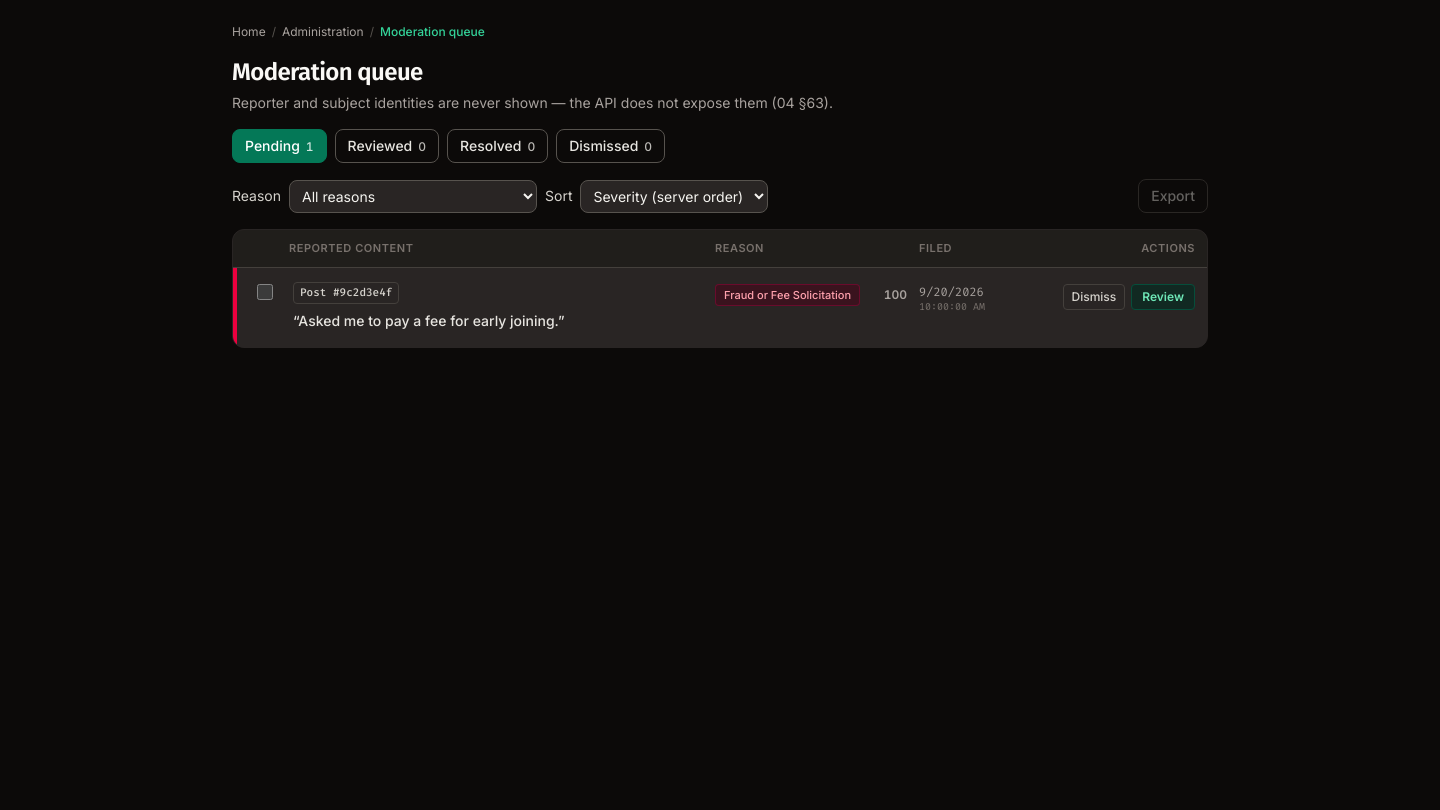
Test: AdminReportsPage (9.5 Task 8) › records a review decision and moves the row's status
Expected: the element with test id "reports-list" is shown, [232, 229, 1208, 348]
Step 1. Click the button "Review" → point(1163, 296), box [1131, 284, 1195, 310]
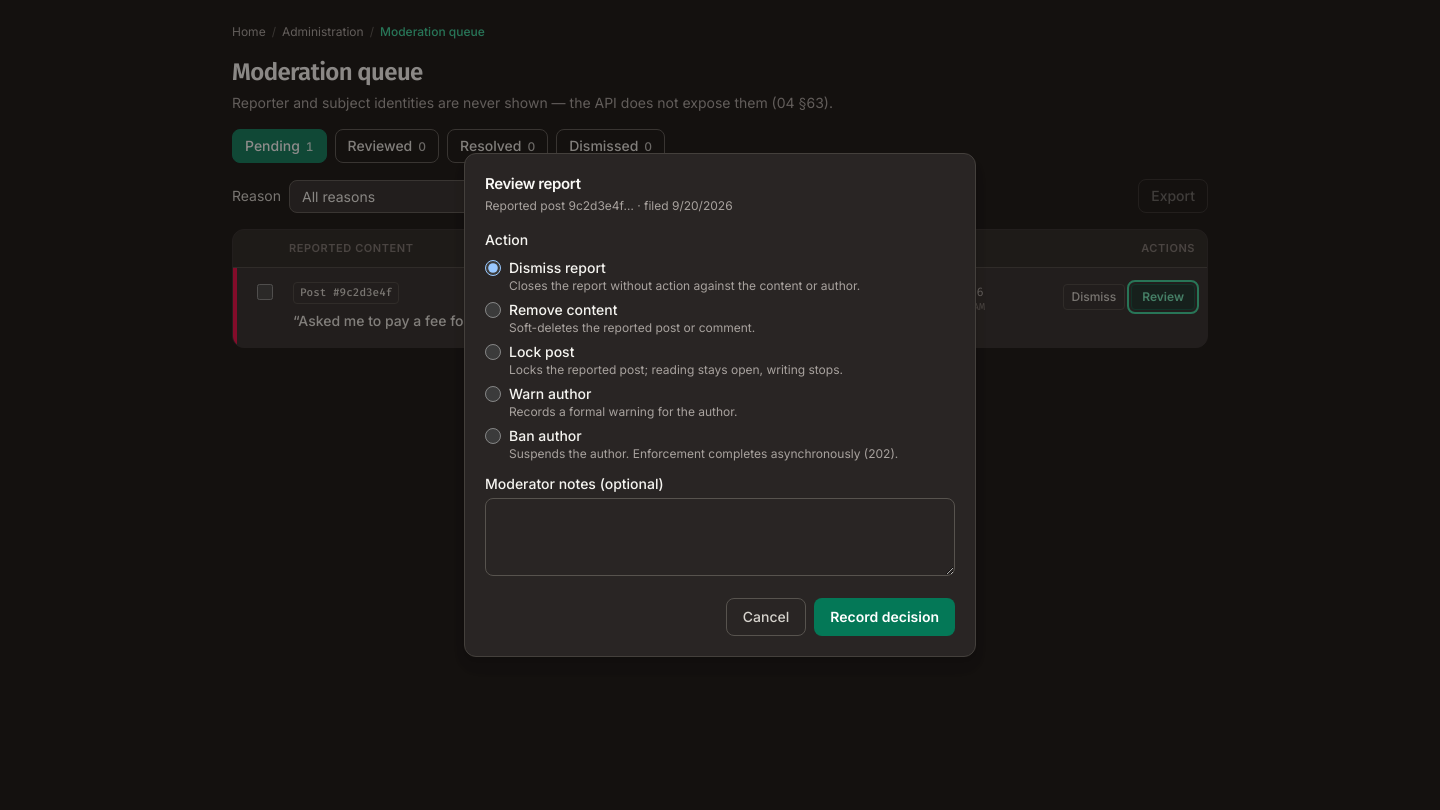
Now the dialog with test id "review-dialog" is shown
Step 2. Click the button with test id "review-submit" → point(885, 617), box [814, 598, 955, 636]
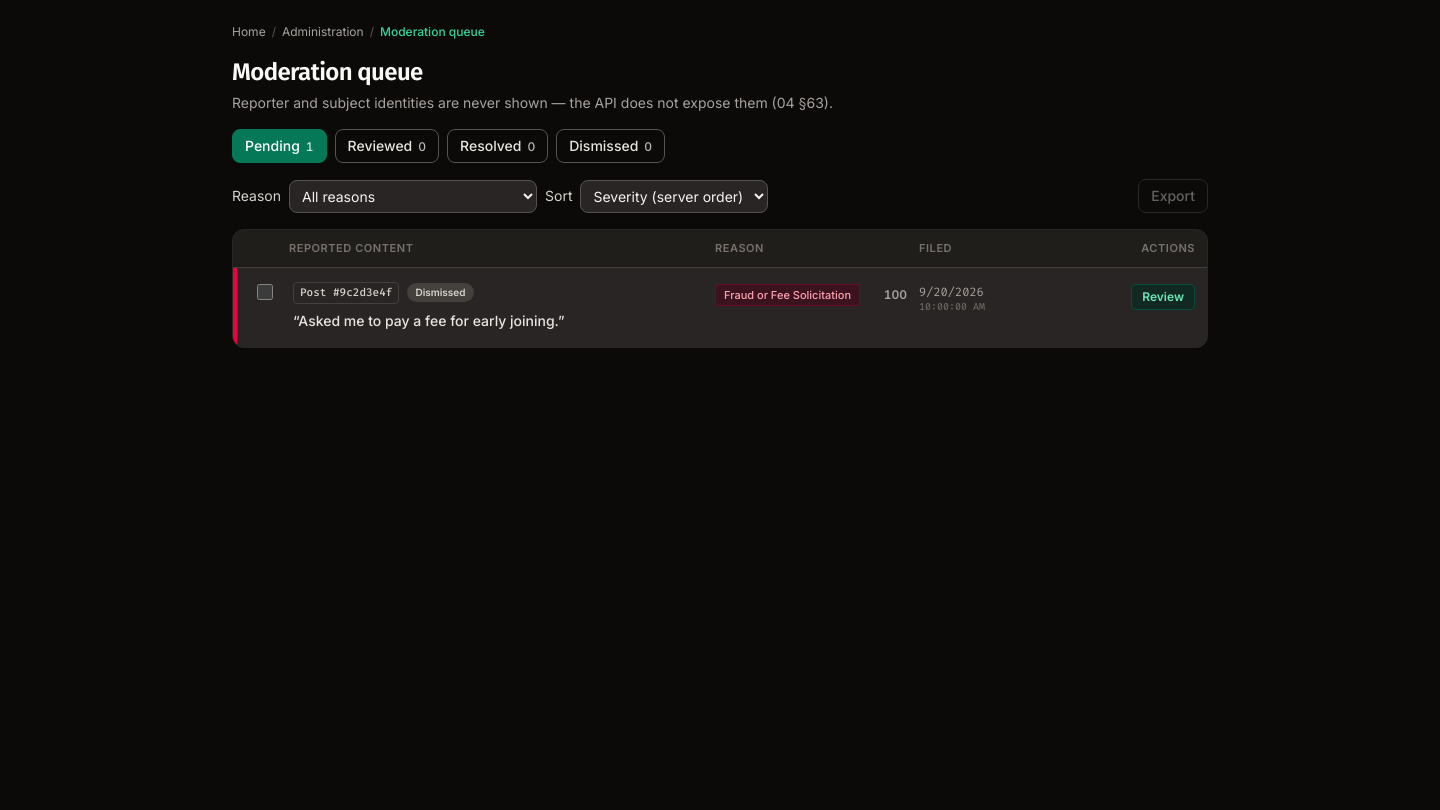
Now the dialog with test id "review-dialog" is gone
Now the list item with test id "report-row" shows "Dismissed", box [415, 286, 466, 298]
